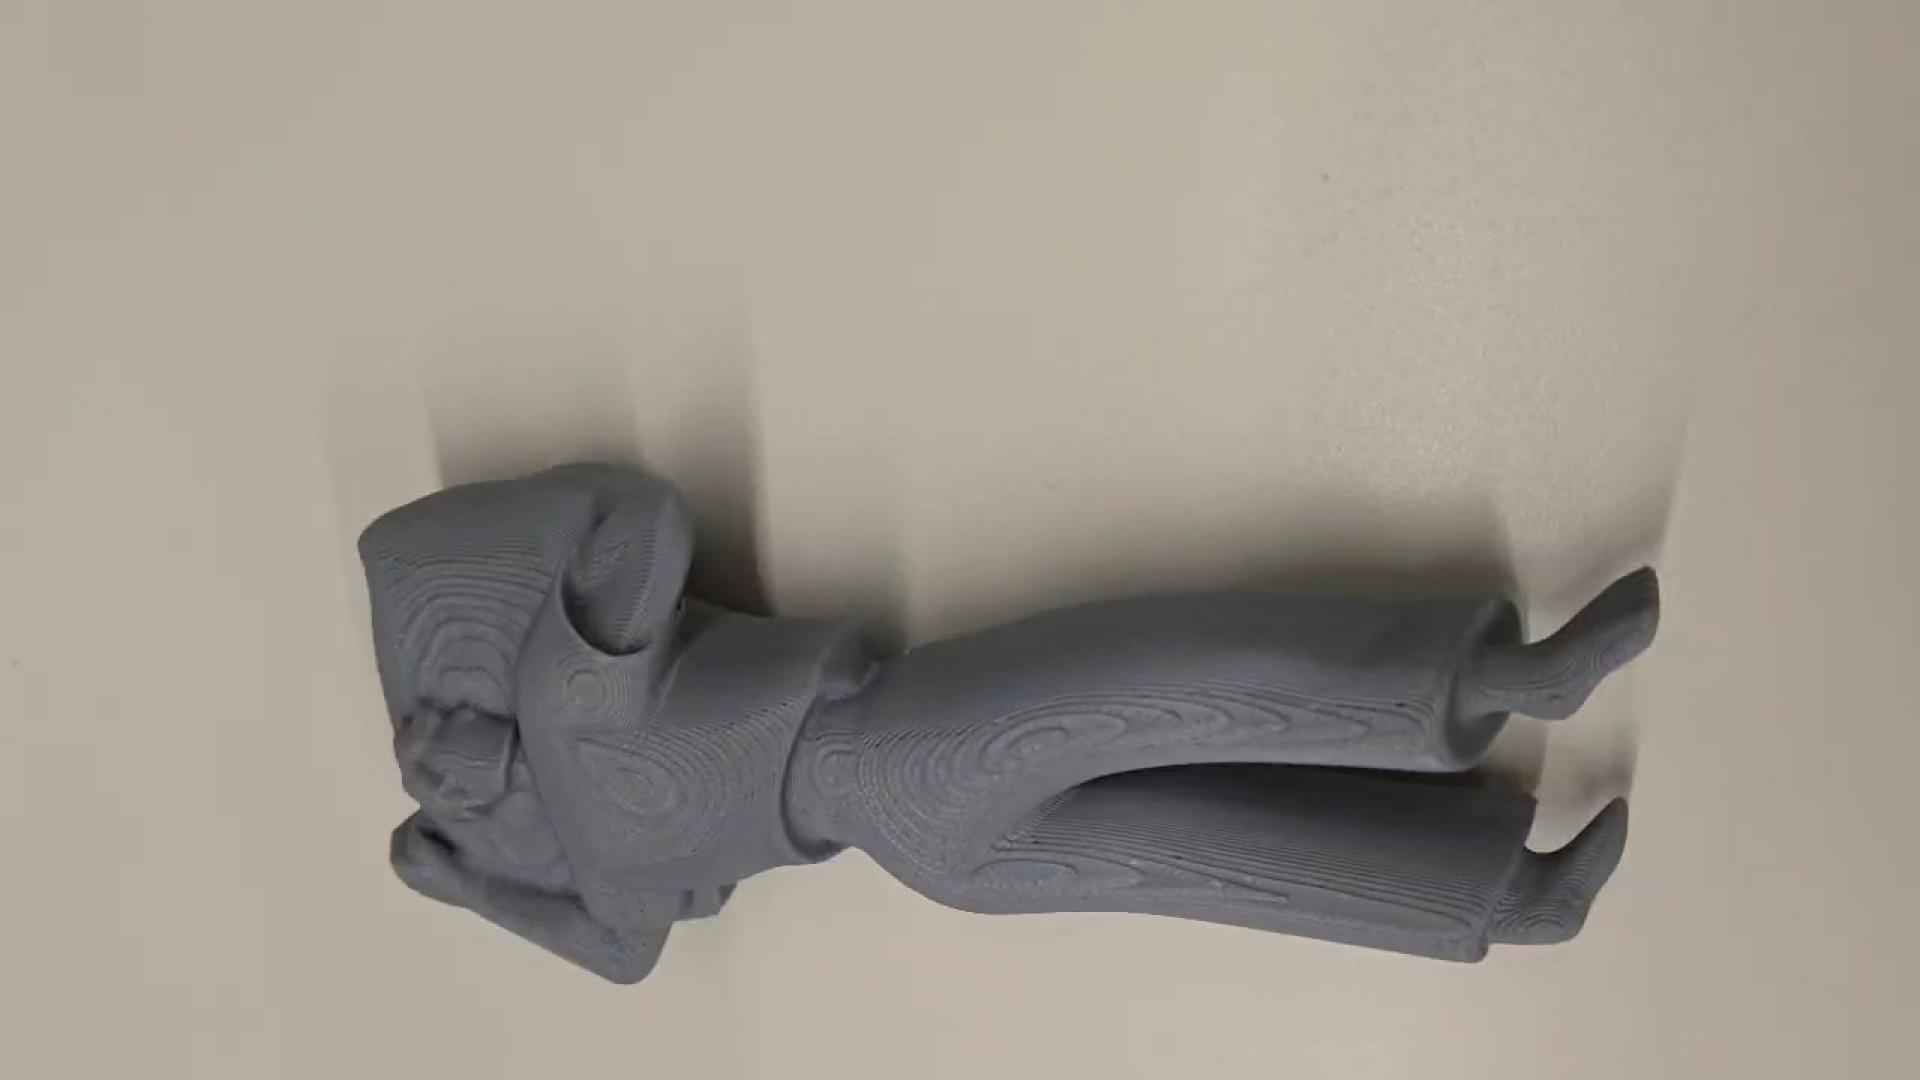Bad-style: (363, 454, 1671, 994)
